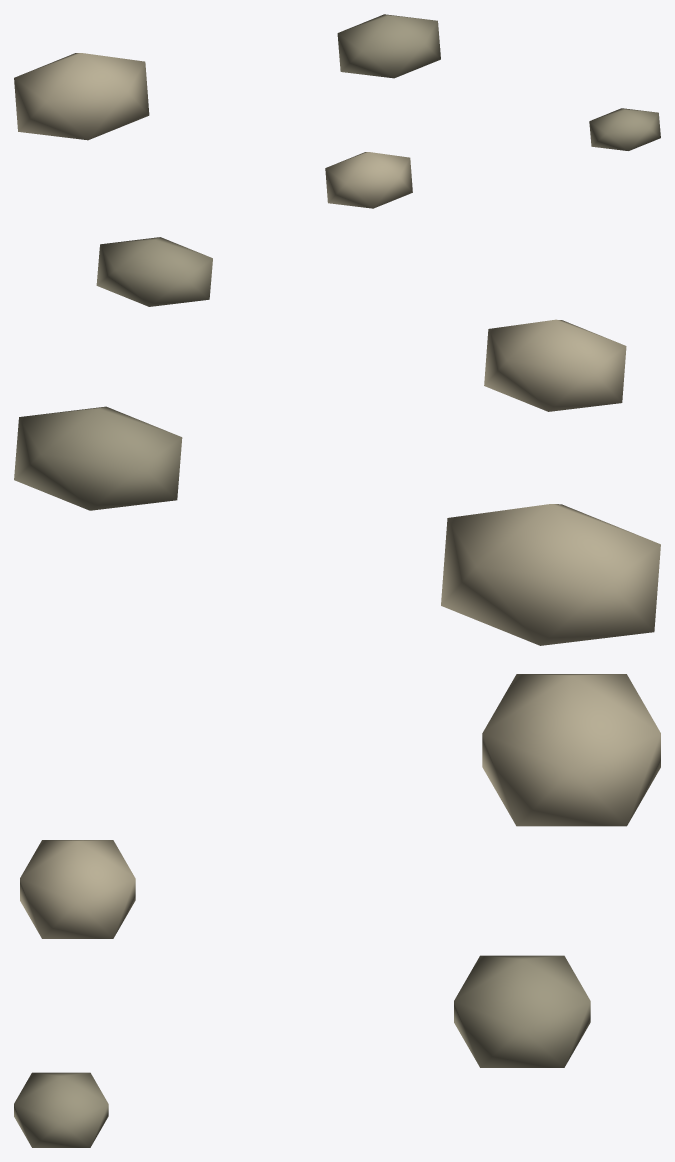
File: wild_pebbles_a.glb
3 renders of one model, top to bottom at view 1: azimuth 30°, elevation 25°; view 2: azimuth 150°, elevation 25°; view 3: azimuth 270°, elevation 25°, orthographic. The views are drawn at different scales.
Visible parts, largest first — view 1: wild_pebbles_a; view 2: wild_pebbles_a; view 3: wild_pebbles_a.
Part boxes in pixels (<box>): wild_pebbles_a: <box>14,14,660,208</box>; wild_pebbles_a: <box>14,237,660,645</box>; wild_pebbles_a: <box>14,674,660,1147</box>.
Bounding box in the file's own units: 0.5863 × 0.09 × 0.3929.
